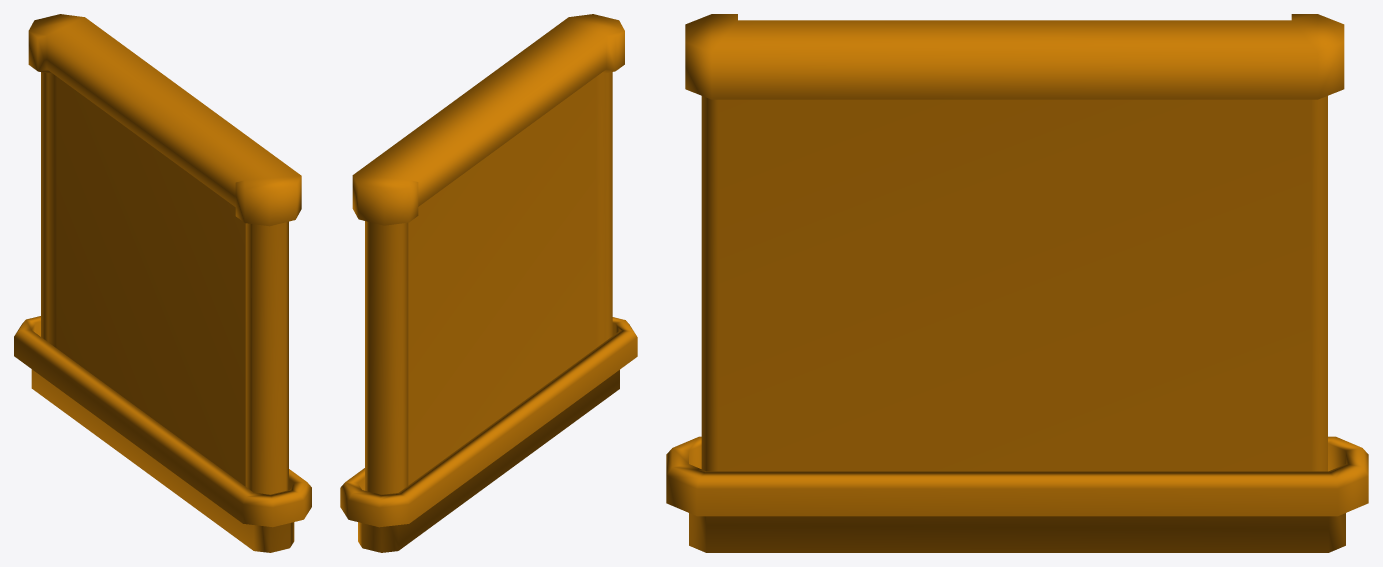
The model's file is UI_SCREEN_BIG.fbx.
3 views of the same model, side by side, from view 1: azimuth 30°, elevation 25°; view 2: azimuth 150°, elevation 25°; view 3: azimuth 270°, elevation 25° (orthographic). The views are drawn at different scales.
Parts seen in each view (by area): view 1: pCube10, pCube9; view 2: pCube10, pCube9; view 3: pCube10, pCube9.
Boxes of the visible parts, x1,y1,x2,y2 form: pCube10: [28, 14, 301, 494]; pCube9: [14, 316, 311, 552]; pCube10: [352, 14, 624, 494]; pCube9: [340, 317, 637, 552]; pCube10: [685, 14, 1344, 471]; pCube9: [666, 436, 1368, 552].
Size of the model in its own units: 0.5364 by 2.69 by 3.38.
